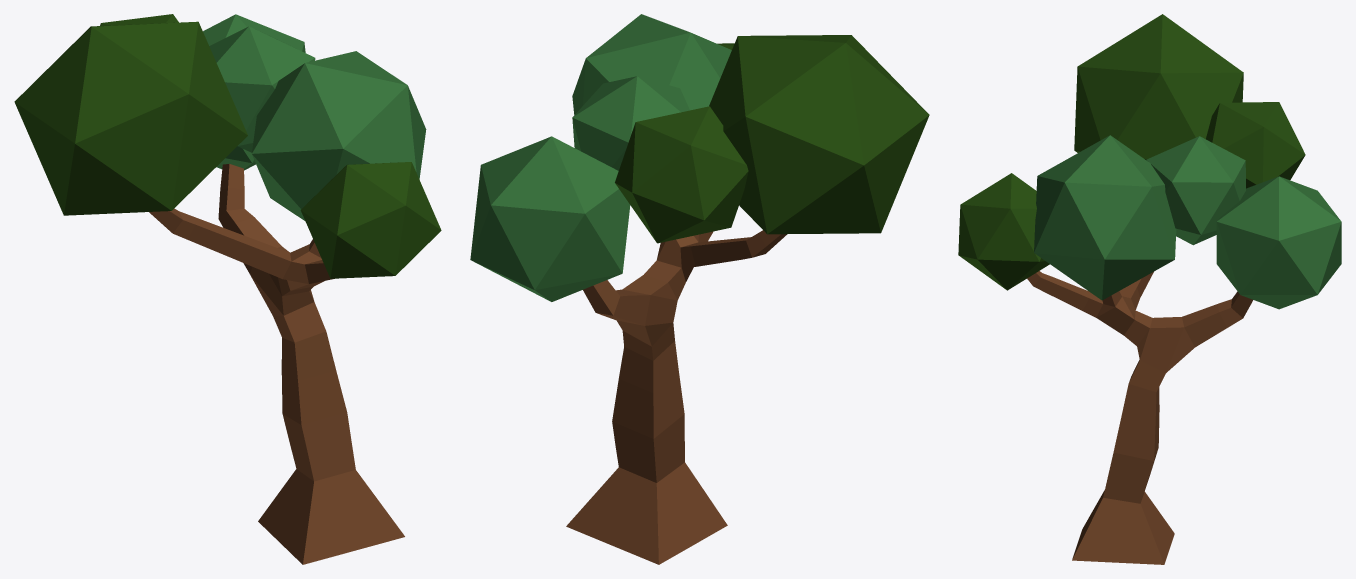
The model's file is uploads_files_3070616_tree+1.fbx.
3 renders of one model, left to right at view 1: azimuth 30°, elevation 25°; view 2: azimuth 150°, elevation 25°; view 3: azimuth 270°, elevation 25°, orthographic. The views are drawn at different scales.
Parts seen in each view (by area): view 1: Icosphere.002, Cube, Icosphere.005, Icosphere.001, Icosphere.003, Icosphere; view 2: Icosphere.002, Cube, Icosphere, Icosphere.004, Icosphere.005, Icosphere.003; view 3: Cube, Icosphere.005, Icosphere.002, Icosphere, Icosphere.001, Icosphere.003, Icosphere.004.
Part boxes in pixels (<box>): Icosphere.002: <box>14,21,247,215</box>; Cube: <box>149,163,404,564</box>; Icosphere.005: <box>252,51,426,220</box>; Icosphere.001: <box>300,162,441,278</box>; Icosphere.003: <box>209,26,315,152</box>; Icosphere: <box>203,14,305,170</box>; Icosphere.002: <box>709,35,929,234</box>; Cube: <box>566,230,786,564</box>; Icosphere: <box>470,136,630,301</box>; Icosphere.004: <box>615,106,748,243</box>; Icosphere.005: <box>572,14,731,114</box>; Icosphere.003: <box>572,76,689,170</box>; Cube: <box>1027,271,1252,564</box>; Icosphere.005: <box>1034,135,1176,300</box>; Icosphere.002: <box>1074,14,1243,159</box>; Icosphere: <box>1216,176,1341,309</box>; Icosphere.001: <box>958,173,1049,290</box>; Icosphere.003: <box>1146,136,1245,245</box>; Icosphere.004: <box>1206,102,1305,188</box>.
Size of the model in its own units: 148 by 220 by 170.
